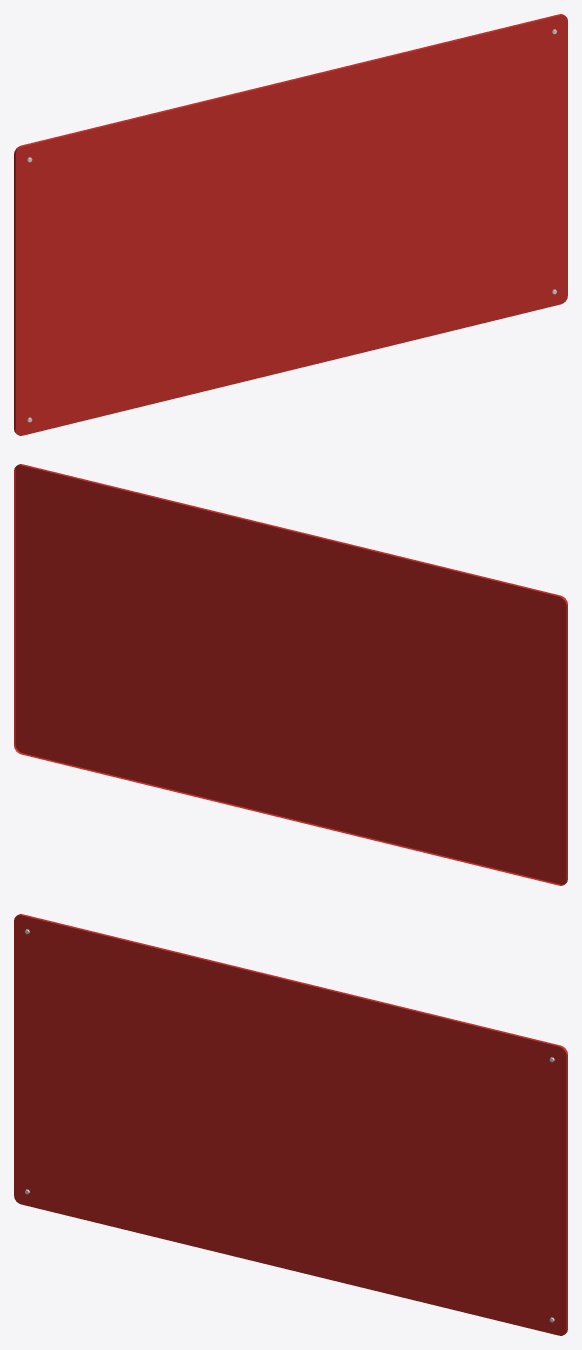
File: display_board.glb
The picture shows the model from 3 angles, top to bottom: view 1: azimuth 30°, elevation 25°; view 2: azimuth 150°, elevation 25°; view 3: azimuth 330°, elevation 25°; orthographic projection.
Parts seen in each view (by area): view 1: display_board; view 2: display_board; view 3: display_board.
Part boxes in pixels (box(x1,y1,x2,y2)): display_board: box(14, 14, 567, 435); display_board: box(14, 464, 567, 885); display_board: box(14, 914, 567, 1335).
Size of the model in its own units: 4 by 2 by 0.0323.
